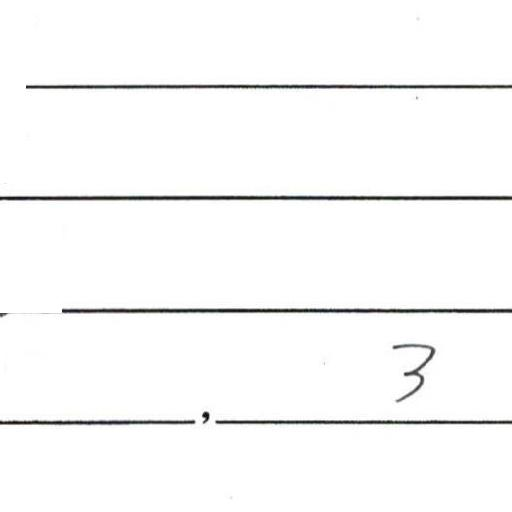ans: (387, 336, 436, 403)
